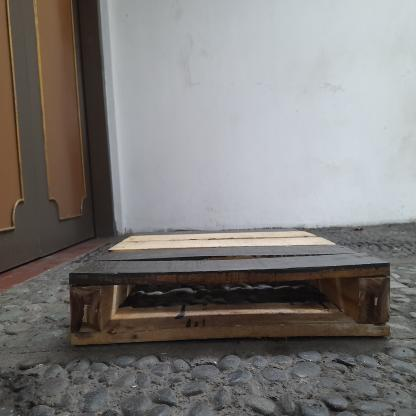Wooden-Pallet: (65, 226, 397, 355)
